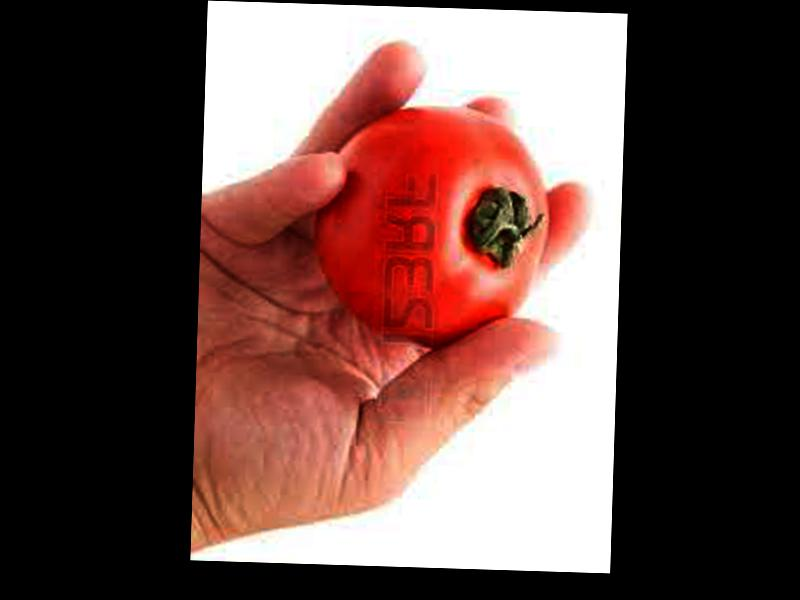Tomato: (312, 102, 552, 348)
